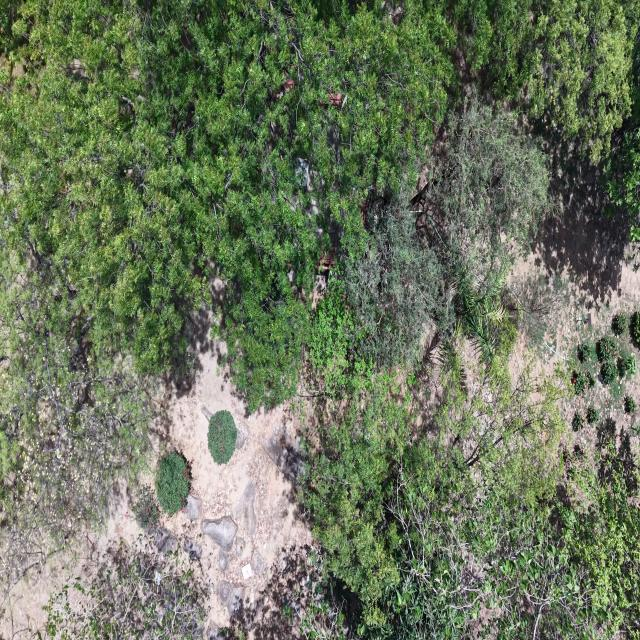DRY_AREA: (153, 339, 312, 626), (153, 342, 311, 629)
VEGETATION_TREE: (0, 0, 639, 639), (2, 2, 636, 408), (0, 2, 457, 516), (0, 2, 455, 410), (3, 3, 456, 409), (305, 295, 639, 638), (202, 4, 454, 410), (306, 359, 638, 638), (305, 338, 561, 637), (0, 2, 202, 372), (338, 99, 550, 367), (0, 240, 156, 586), (390, 496, 634, 637), (454, 0, 638, 161), (419, 99, 552, 290), (305, 377, 408, 607), (41, 535, 250, 639), (337, 194, 450, 367), (45, 539, 207, 639), (569, 433, 639, 629), (309, 279, 371, 396), (605, 45, 639, 246), (502, 274, 569, 352), (448, 274, 506, 363), (570, 326, 637, 402), (607, 107, 639, 245), (301, 576, 347, 639), (155, 452, 191, 515), (570, 338, 599, 395), (208, 411, 237, 464), (133, 486, 160, 532), (562, 444, 588, 480), (597, 415, 616, 449), (571, 370, 595, 395), (597, 336, 619, 362), (600, 359, 618, 384), (577, 340, 596, 363), (621, 354, 638, 377), (612, 313, 628, 337), (630, 312, 639, 348), (587, 406, 600, 424), (624, 395, 637, 413), (572, 412, 584, 431)
